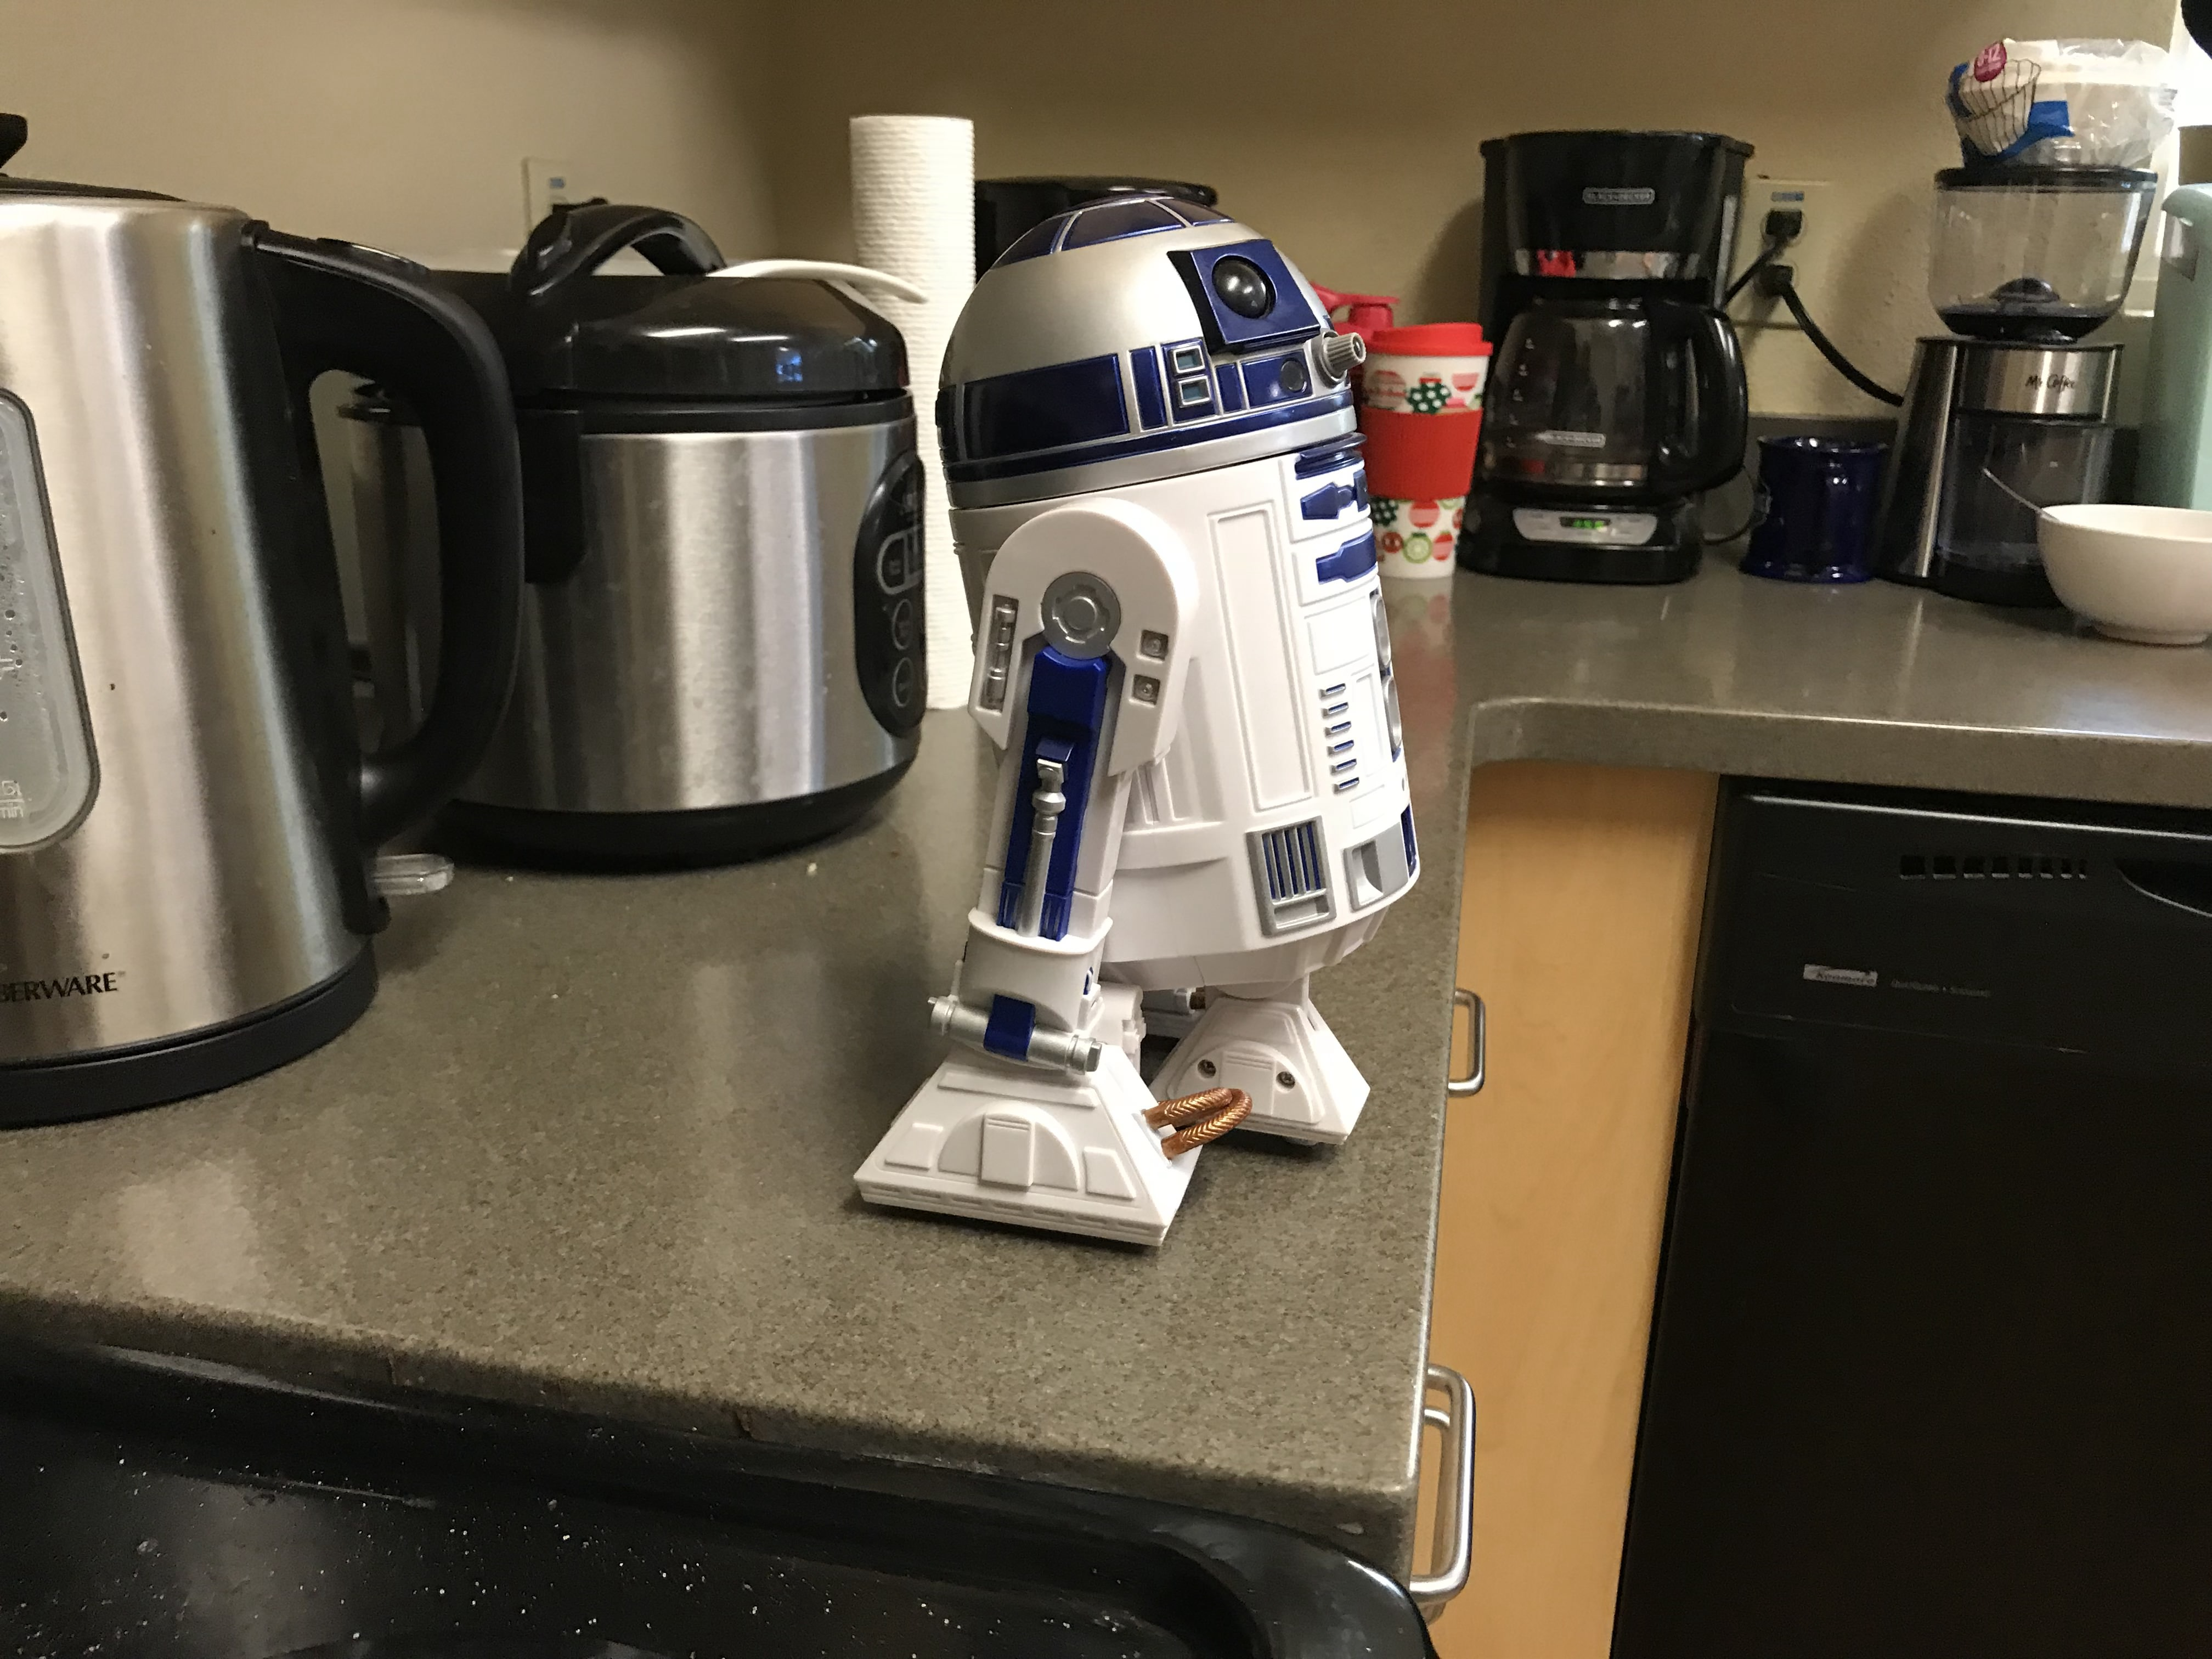r2d2: (857, 192, 1420, 1253)
